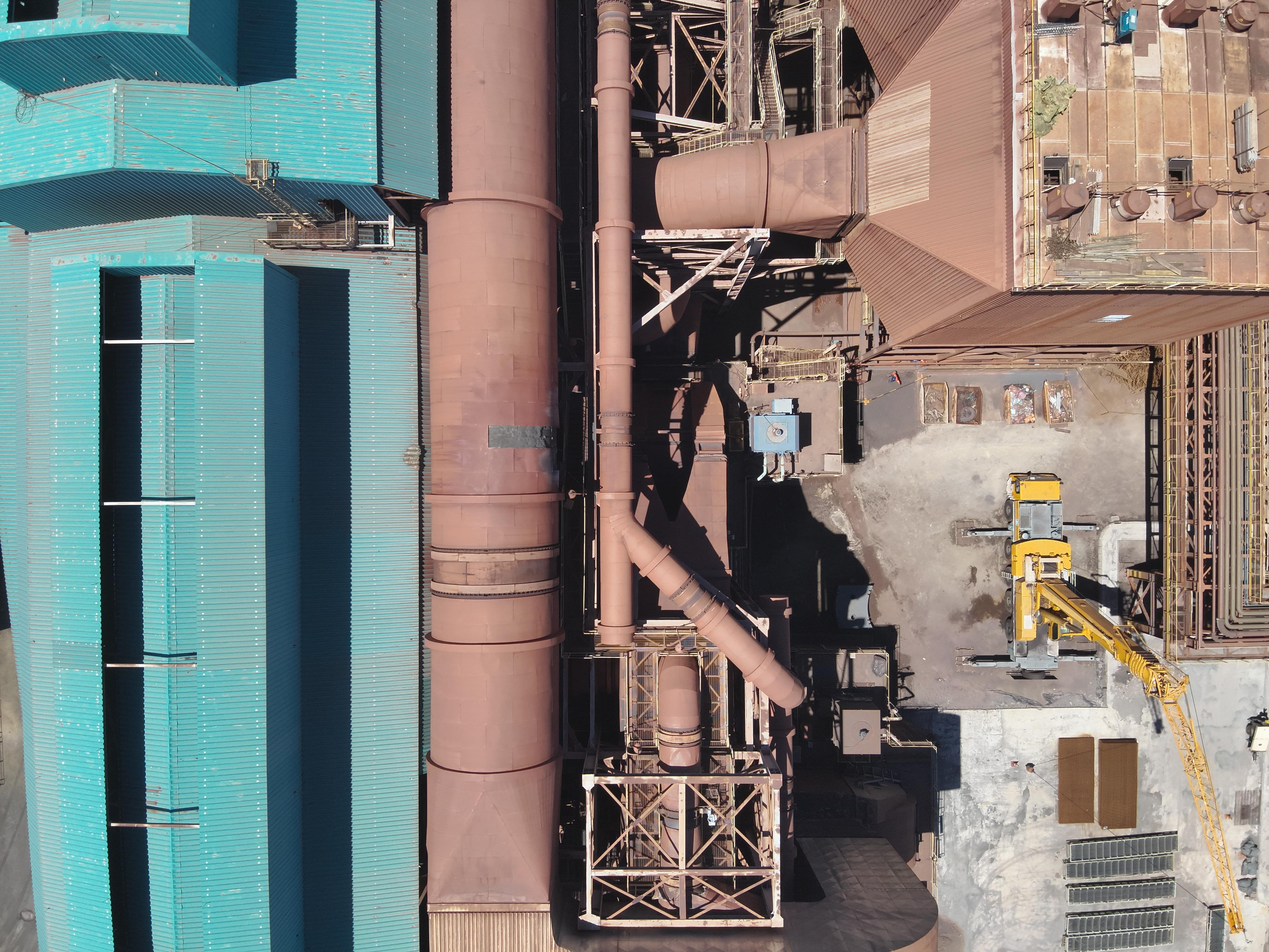Failures: (487, 423, 564, 457), (648, 877, 711, 910)
